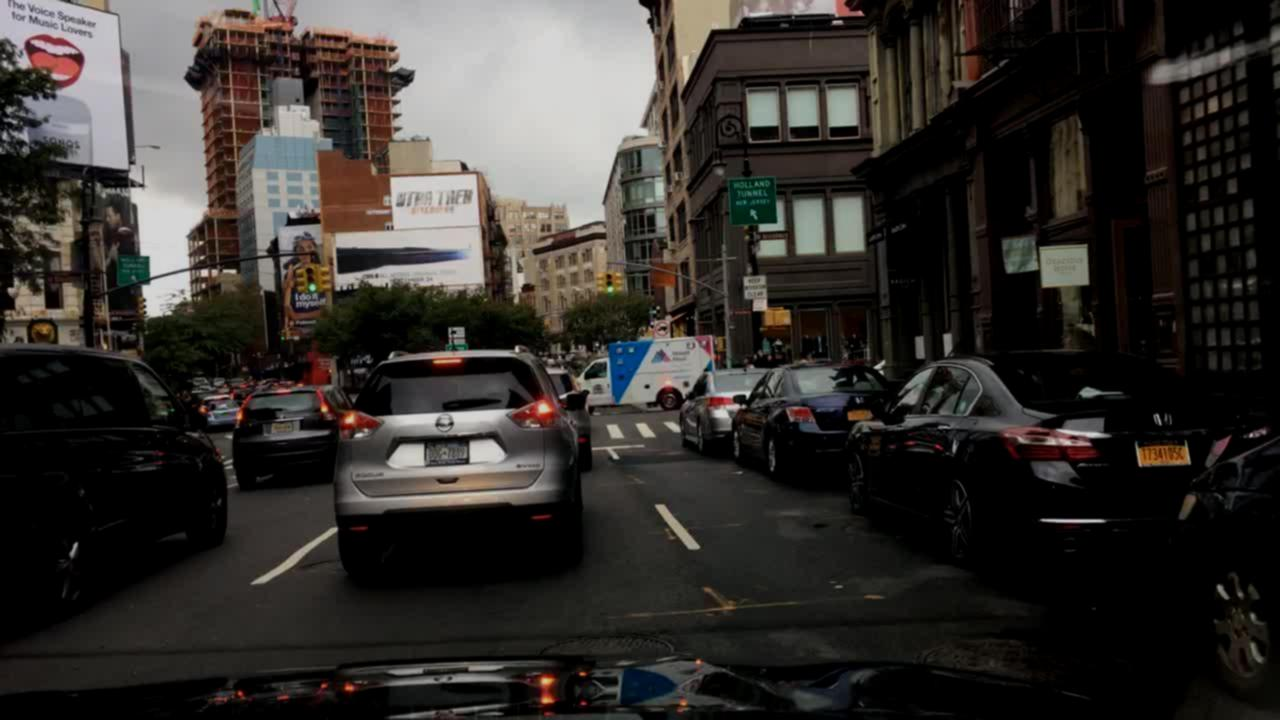Honda: (1152, 402, 1180, 436), (850, 393, 868, 411)
Nissan: (430, 413, 456, 437)
